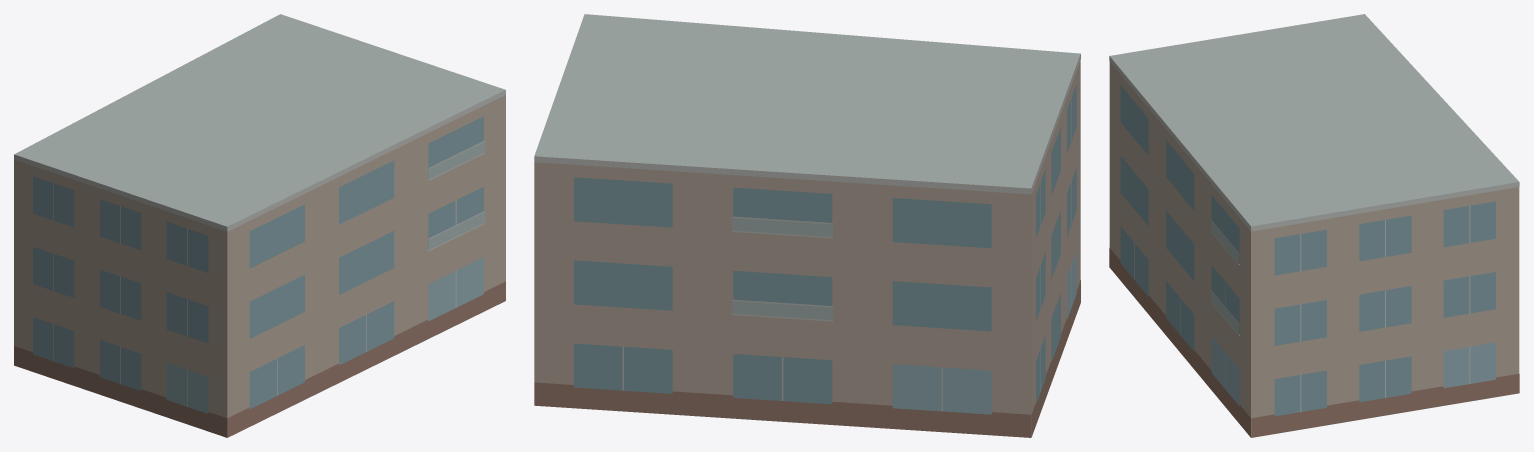
The model's file is survey-upis-32837830.glb.
3 views of the same model, side by side, from view 1: azimuth 30°, elevation 25°; view 2: azimuth 150°, elevation 25°; view 3: azimuth 270°, elevation 25° (orthographic). The views are drawn at different scales.
Parts seen in each view (by area): view 1: survey-upis-32837830.tmp; view 2: survey-upis-32837830.tmp; view 3: survey-upis-32837830.tmp.
Part boxes in pixels (bbox=[...]): survey-upis-32837830.tmp: bbox=[14, 14, 505, 437]; survey-upis-32837830.tmp: bbox=[534, 14, 1080, 437]; survey-upis-32837830.tmp: bbox=[1109, 14, 1519, 437].
Bounding box in the file's own units: 22.01 × 10.2 × 17.94.
